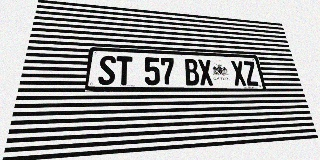5: (144, 57, 160, 85)
7: (160, 58, 176, 85)
B: (184, 59, 200, 85)
S: (98, 55, 116, 85)
T: (116, 56, 132, 85)
X: (197, 59, 214, 85), (230, 61, 247, 86)
Z: (242, 61, 259, 86)
